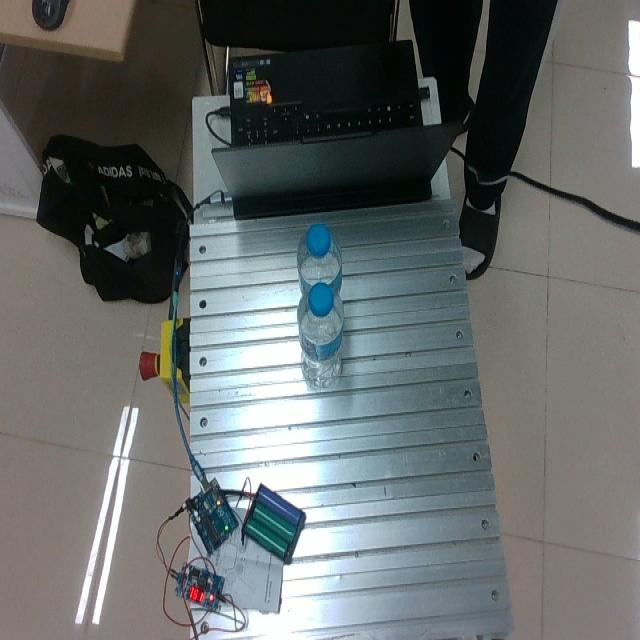lavie: (297, 281, 344, 388), (296, 224, 343, 301)
